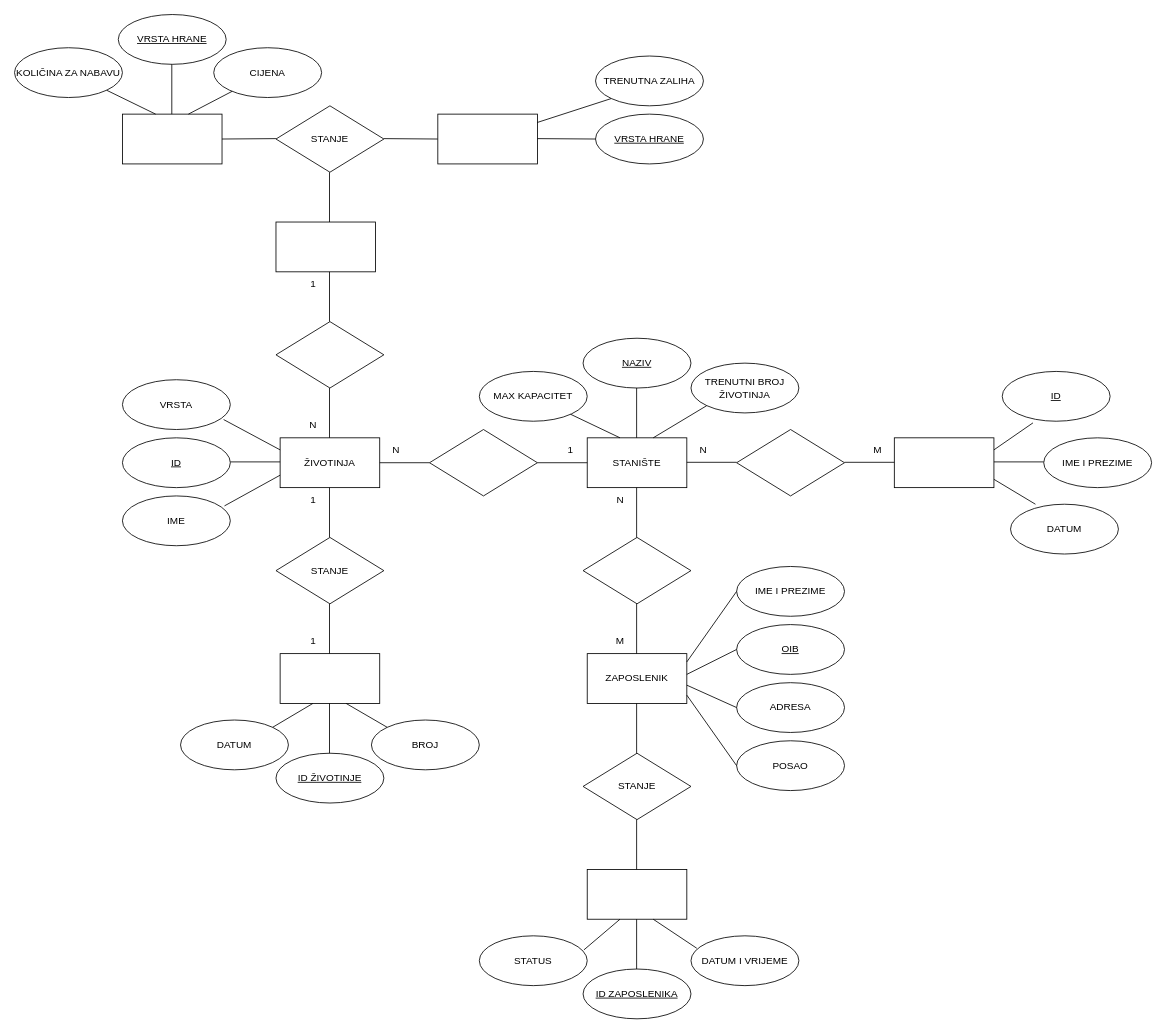
Some shapes in this 1166 by 1033 pixel diagram are drawn without their labels. Here are the shapes that lost their labels. From the top down, the centre of each, then its label:
the point at 172,138: NABAVA HRANE
the point at 487,138: POTROŠNJA HRANE
the point at 325,246: HRANA
the point at 329,354: JEDE
the point at 483,462: ŽIVI
the point at 790,462: POSJEĆUJE
the point at 943,462: POSJETITELJ
the point at 636,570: BRINE SE
the point at 329,678: EVIDENCIJA ŽIVOTINJA
the point at 636,894: EVIDENCIJA ZAPOSLENIKA
